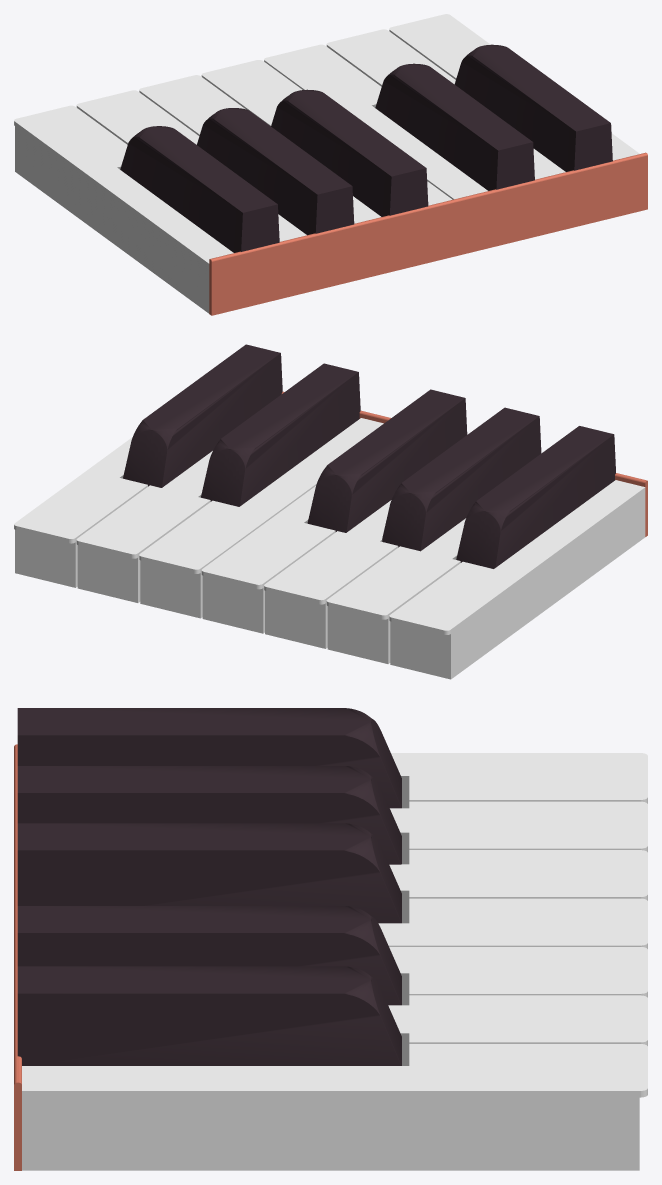
The model's file is pianoclean.fbx.
3 renders of one model, top to bottom at view 1: azimuth 30°, elevation 25°; view 2: azimuth 150°, elevation 25°; view 3: azimuth 270°, elevation 25°, orthographic. The views are drawn at different scales.
Visible parts, largest first — view 1: Velvet, B, EFlat, BFlat, CSharp, GSharp, FSharp, E, C, D, F, A (+1 smaller); view 2: B, EFlat, BFlat, CSharp, E, GSharp, FSharp, D, A, G, C, F (+1 smaller); view 3: C, CSharp, FSharp, EFlat, BFlat, GSharp, D, G, E, F, A, B (+1 smaller).
Boxes of the visible parts, <box> form: Velvet: <box>209,152,647,315</box>; B: <box>14,105,233,313</box>; EFlat: <box>375,63,534,190</box>; BFlat: <box>120,126,279,252</box>; CSharp: <box>454,44,612,171</box>; GSharp: <box>197,108,354,235</box>; FSharp: <box>271,89,428,216</box>; E: <box>264,44,487,199</box>; C: <box>389,14,639,160</box>; D: <box>326,29,565,179</box>; F: <box>201,60,452,205</box>; A: <box>76,90,306,241</box>; B: <box>389,480,645,679</box>; EFlat: <box>201,363,360,506</box>; BFlat: <box>456,426,615,568</box>; CSharp: <box>123,344,282,487</box>; E: <box>139,418,383,618</box>; GSharp: <box>382,407,541,551</box>; FSharp: <box>307,389,467,532</box>; D: <box>76,451,212,602</box>; A: <box>326,518,465,663</box>; G: <box>264,500,398,648</box>; C: <box>14,437,147,587</box>; F: <box>201,486,335,633</box>; C: <box>22,1044,647,1170</box>; CSharp: <box>17,966,401,1065</box>; FSharp: <box>17,823,401,923</box>; EFlat: <box>17,906,401,1005</box>; BFlat: <box>17,708,401,808</box>; GSharp: <box>17,766,401,864</box>; D: <box>388,995,647,1065</box>; G: <box>389,850,647,923</box>; E: <box>389,947,647,1005</box>; F: <box>378,898,647,948</box>; A: <box>390,801,647,864</box>; B: <box>391,753,647,808</box>.
Size of the model in its own units: 160 by 33.09 by 127.
